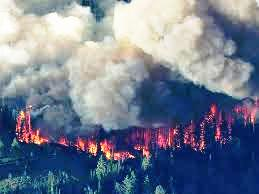fire: (11, 106, 67, 157), (77, 135, 130, 161), (137, 132, 182, 156), (190, 126, 226, 148), (224, 107, 259, 127)
